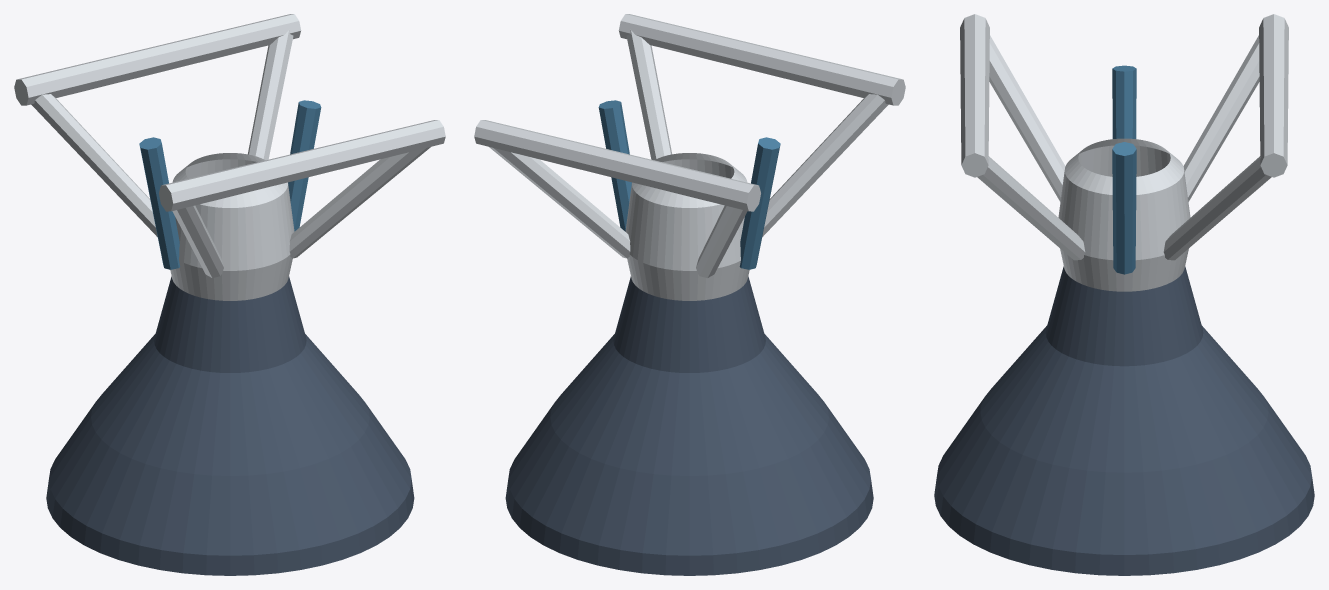
3 renders of one model, left to right at view 1: azimuth 30°, elevation 25°; view 2: azimuth 150°, elevation 25°; view 3: azimuth 270°, elevation 25°, orthographic. The views are drawn at different scales.
Visible parts, largest first — view 1: RE-002 Engine bell and thrust frame batched; view 2: RE-002 Engine bell and thrust frame batched; view 3: RE-002 Engine bell and thrust frame batched.
Part boxes in pixels (box(x1,y1,x2,y2)): RE-002 Engine bell and thrust frame batched: box(14, 14, 445, 575); RE-002 Engine bell and thrust frame batched: box(474, 14, 905, 575); RE-002 Engine bell and thrust frame batched: box(934, 14, 1314, 575).
Bounding box in the file's own units: 1.4 × 1.68 × 1.4.
